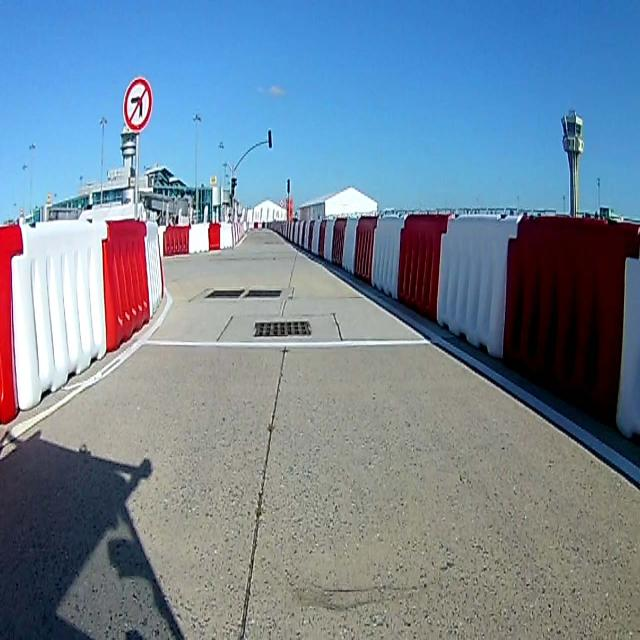soladonulmez: (123, 74, 153, 132)
